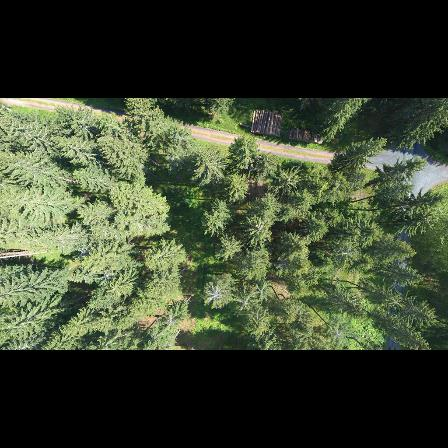Sick: (203, 280, 228, 309), (95, 265, 119, 287)
